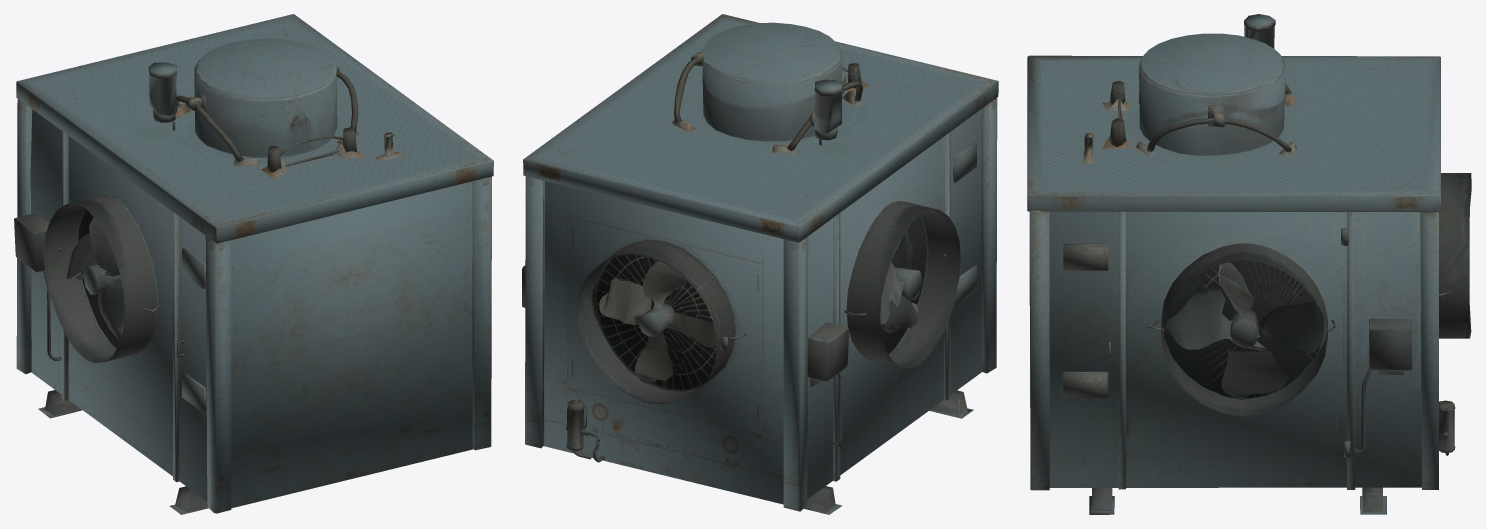
File: office-rooftop-hvac.glb
The picture shows the model from 3 angles, left to right: view 1: azimuth 30°, elevation 25°; view 2: azimuth 150°, elevation 25°; view 3: azimuth 270°, elevation 25°; orthographic projection. The views are drawn at different scales.
Visible parts, largest first — view 1: rooftop-hvac; view 2: rooftop-hvac; view 3: rooftop-hvac.
Part boxes in pixels (x1,y1,x2,y2): rooftop-hvac: [14, 14, 493, 514]; rooftop-hvac: [522, 14, 998, 514]; rooftop-hvac: [1027, 14, 1471, 514].
Bounding box in the file's own units: 2.13 × 2.32 × 2.4.
1 material, 1 textured.
